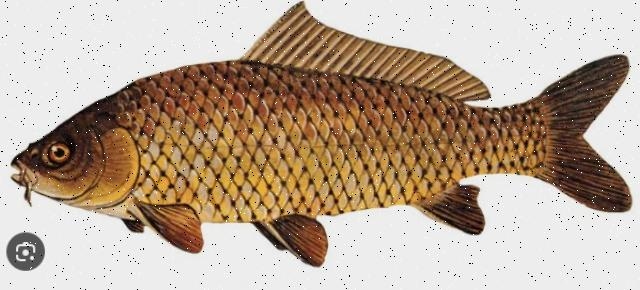Mulut: (2, 140, 46, 212)
Sirip Anal: (418, 178, 492, 240)
Sirip Dada: (118, 190, 215, 260)
Sirip Ekor: (542, 49, 632, 216)
Sirip Perut: (250, 208, 336, 272)
Sirip Punggung: (234, 1, 496, 115)
